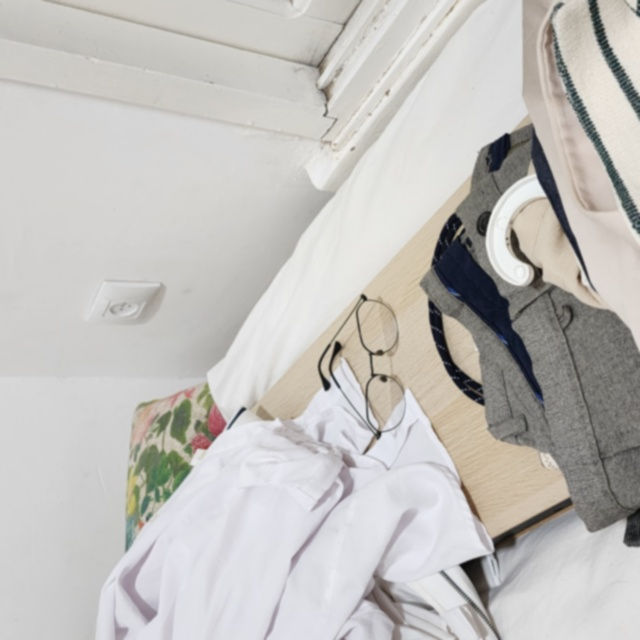glasses: (314, 291, 412, 446)
